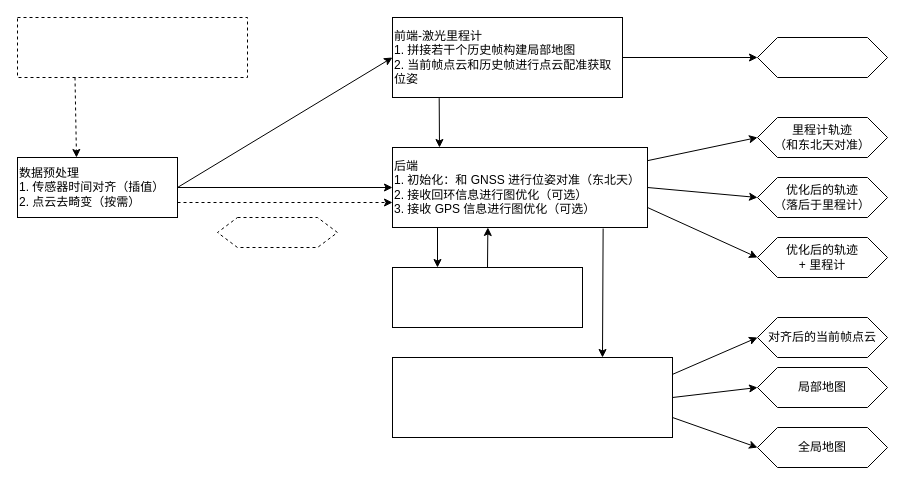
Some shapes in this 905 by 485 pixel diagram are drawn without their labels. The shapes that lost their labels are listed below. From the top down, each one's centre as x and y in pixels, then its label:
the point at 132,47: 外部前端里程计： 1. 获得里程计估计位姿 2. 里程计估计位姿到点云坐标系的转换
the point at 822,57: 里程计轨迹 （和东北天不对准）
the point at 277,232: 外部里程计位姿
the point at 487,297: 回环检测 1. 接收关键帧信息 2. 进行回环检测，返回回环信息
the point at 532,397: 地图可视化 1. 使用对齐后的位姿估计转换当前帧点云用于显示 2. 使用对齐后的位姿构建局部地图用于显示 3. 按需拼接全局地图用于显示并保存
